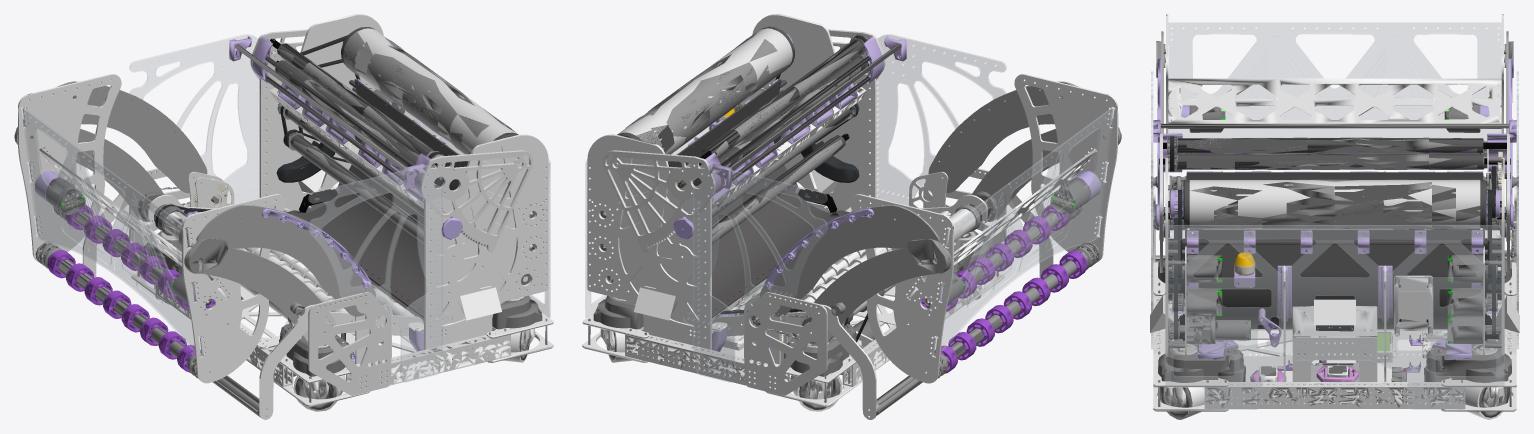
The model's file is roman-6329.glb.
3 views of the same model, side by side, from view 1: azimuth 30°, elevation 25°; view 2: azimuth 150°, elevation 25°; view 3: azimuth 270°, elevation 25° (orthographic). The views are drawn at different scales.
Visible parts, largest first — view 1: frame, intake, intake-driven-arm, flywheel, intake-drive-arm, intake-roller-0, intake-roller-1, intake-dropdown, shooter-roller-0, shooter-roller-3, shooter-roller-1, shooter-roller-2 (+1 smaller); view 2: frame, intake, intake-driven-arm, flywheel, intake-drive-arm, intake-roller-0, intake-roller-1, intake-dropdown, shooter-roller-0, shooter-roller-3, shooter-roller-1, shooter-roller-2 (+2 smaller); view 3: frame, intake, flywheel, shooter-roller-0, shooter-roller-1, intake-driven-arm, intake-dropdown, intake-roller-1, intake-roller-0.
Boxes of the visible parts, x1=… form: frame: x1=129, y1=14, x2=553, y2=411; intake: x1=14, y1=74, x2=285, y2=383; intake-driven-arm: x1=52, y1=81, x2=375, y2=316; flywheel: x1=341, y1=27, x2=518, y2=154; intake-drive-arm: x1=15, y1=124, x2=335, y2=345; intake-roller-0: x1=35, y1=241, x2=202, y2=378; intake-roller-1: x1=54, y1=204, x2=214, y2=310; intake-dropdown: x1=82, y1=194, x2=319, y2=419; shooter-roller-0: x1=270, y1=39, x2=436, y2=165; shooter-roller-3: x1=290, y1=135, x2=423, y2=243; shooter-roller-1: x1=275, y1=60, x2=442, y2=185; shooter-roller-2: x1=278, y1=103, x2=443, y2=224; frame: x1=582, y1=14, x2=1006, y2=411; intake: x1=850, y1=74, x2=1121, y2=383; intake-driven-arm: x1=760, y1=81, x2=1079, y2=316; flywheel: x1=617, y1=26, x2=794, y2=154; intake-drive-arm: x1=800, y1=124, x2=1120, y2=346; intake-roller-0: x1=927, y1=241, x2=1099, y2=378; intake-roller-1: x1=921, y1=204, x2=1081, y2=311; intake-dropdown: x1=816, y1=194, x2=1053, y2=419; shooter-roller-0: x1=699, y1=40, x2=863, y2=165; shooter-roller-3: x1=712, y1=133, x2=849, y2=243; shooter-roller-1: x1=693, y1=57, x2=865, y2=185; shooter-roller-2: x1=712, y1=107, x2=851, y2=217; frame: x1=1150, y1=71, x2=1519, y2=419; intake: x1=1156, y1=14, x2=1513, y2=190; flywheel: x1=1168, y1=179, x2=1501, y2=228; shooter-roller-0: x1=1163, y1=137, x2=1506, y2=153; shooter-roller-1: x1=1159, y1=154, x2=1510, y2=169; intake-driven-arm: x1=1157, y1=31, x2=1512, y2=241; intake-dropdown: x1=1151, y1=176, x2=1518, y2=265; intake-roller-1: x1=1182, y1=140, x2=1487, y2=158; intake-roller-0: x1=1169, y1=175, x2=1500, y2=190.
Size of the model in its own units: 0.942 by 0.5478 by 0.7755.
